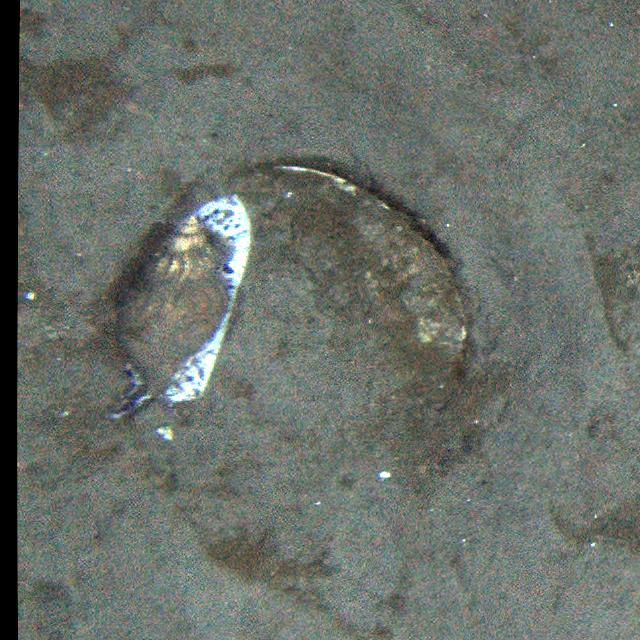whelk: (121, 216, 222, 389)
